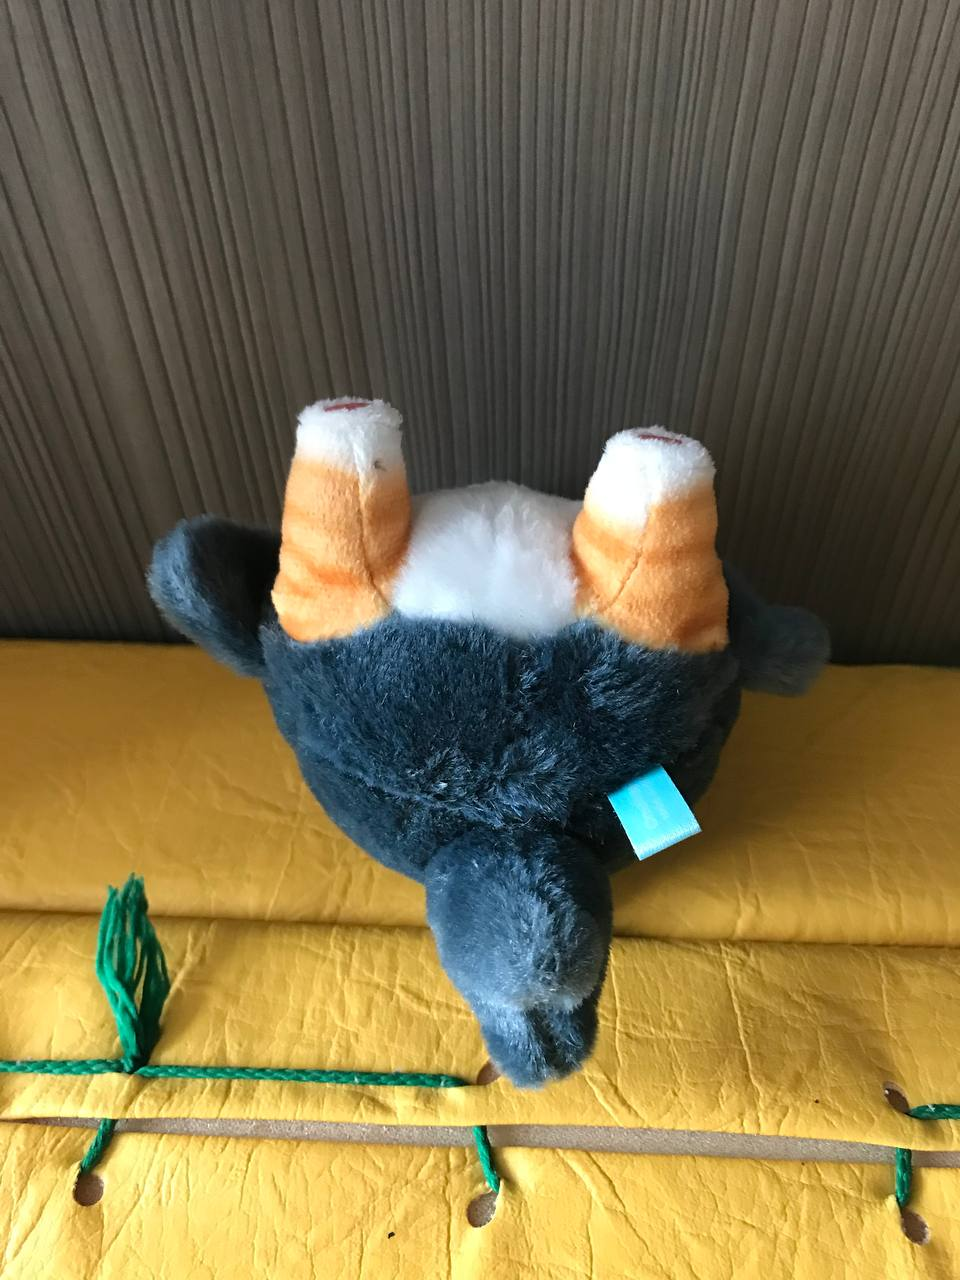cat_shark: (143, 393, 822, 1091)
